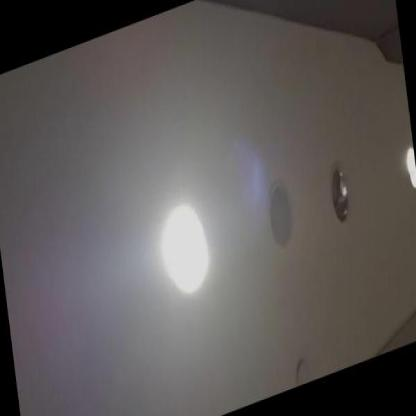light_off: (316, 140, 365, 246)
